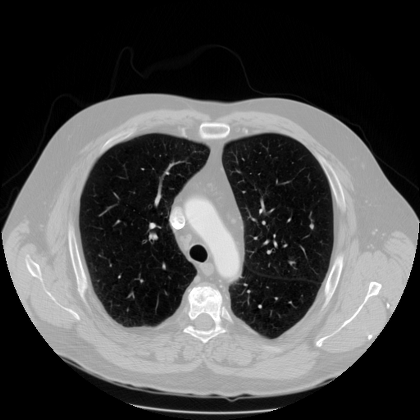nodule: (308, 222, 316, 230)
